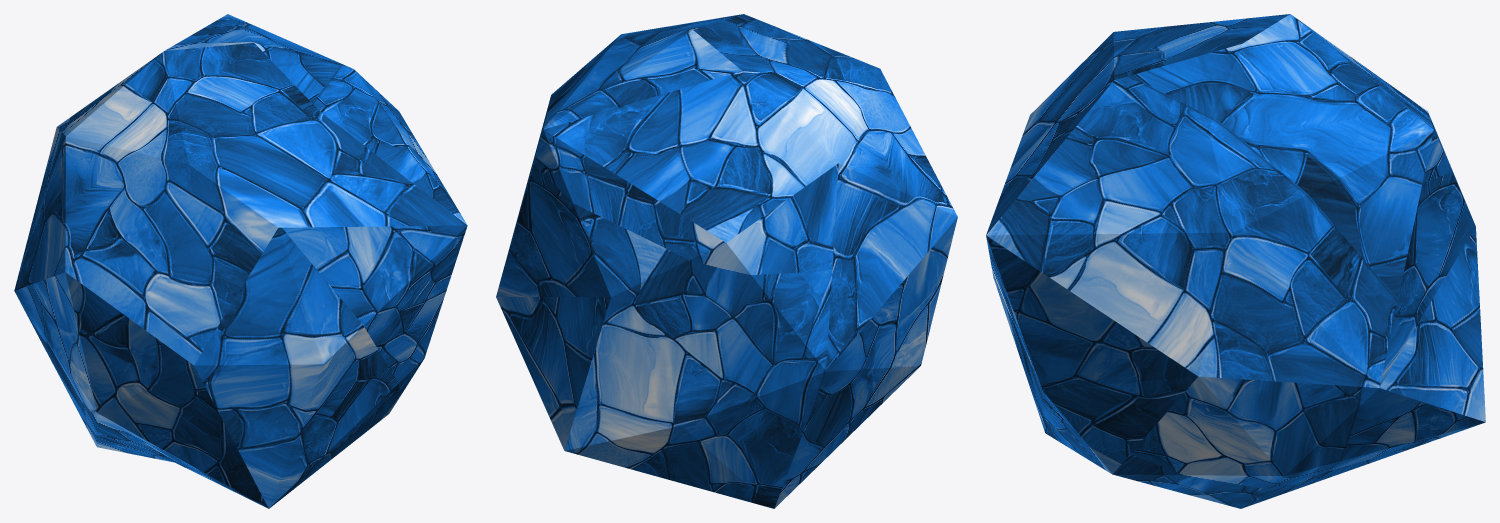
File: star2Blue.glb
3 views of the same model, side by side, from view 1: azimuth 30°, elevation 25°; view 2: azimuth 150°, elevation 25°; view 3: azimuth 270°, elevation 25° (orthographic). The views are drawn at different scales.
Parts seen in each view (by area): view 1: star2; view 2: star2; view 3: star2.
Boxes of the visible parts, box(x1,y1,x2,y2) form: star2: box(14, 14, 467, 508); star2: box(496, 14, 957, 508); star2: box(986, 14, 1485, 508).
Size of the model in its own units: 1 by 1 by 1.
Materials: 1 (1 with a texture image).
